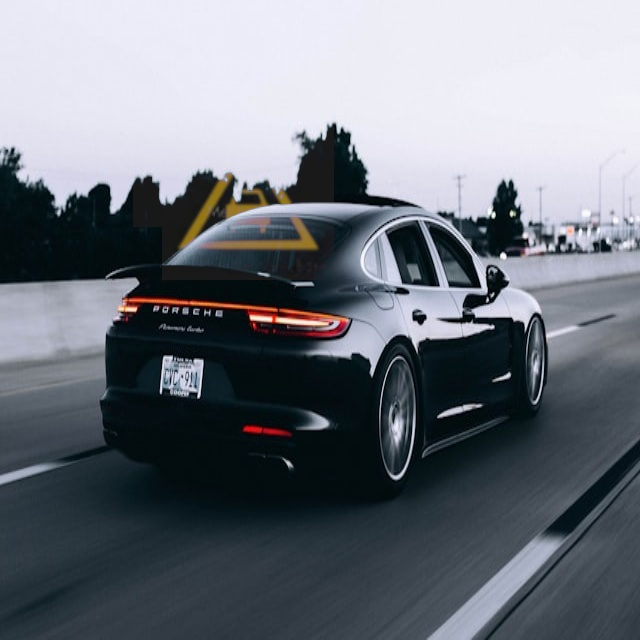symbol: (133, 40, 320, 227), (162, 108, 334, 280)
